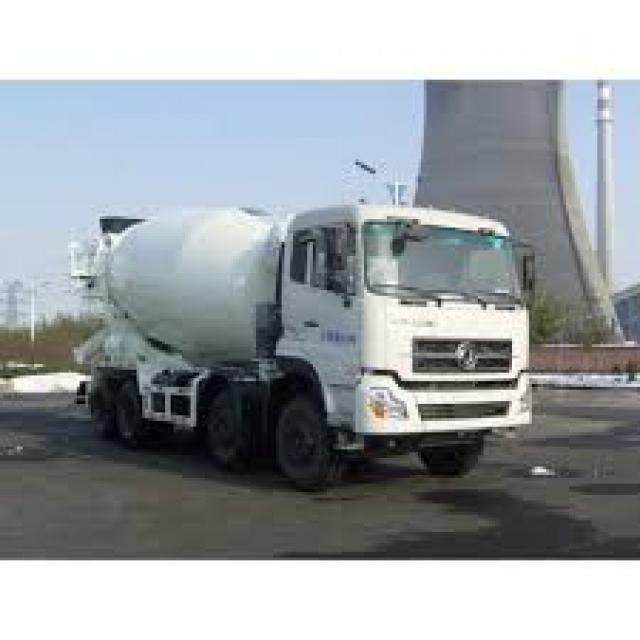Mixer Truck: (61, 198, 541, 494)
